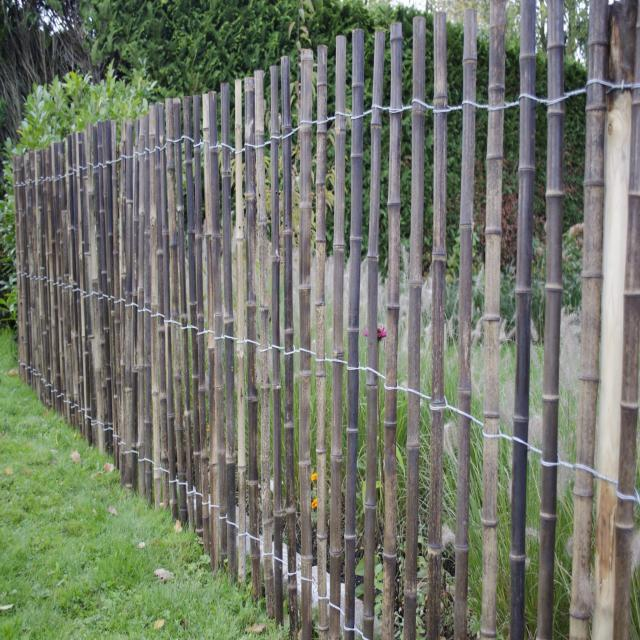fence line: (280, 34, 640, 640), (24, 112, 374, 640)
